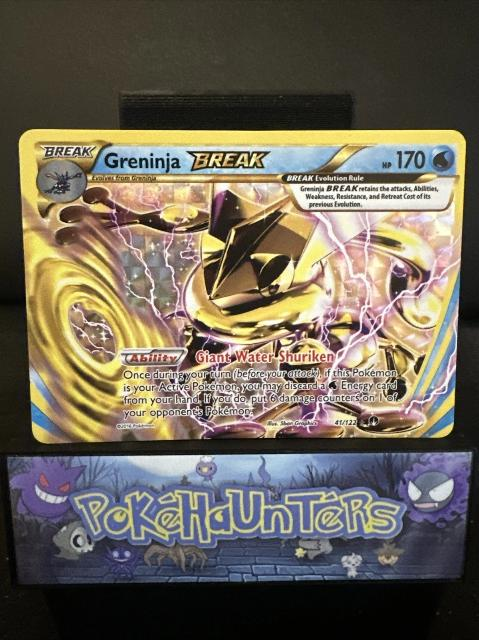Card: (13, 124, 470, 448)
Name: (101, 149, 275, 176)
